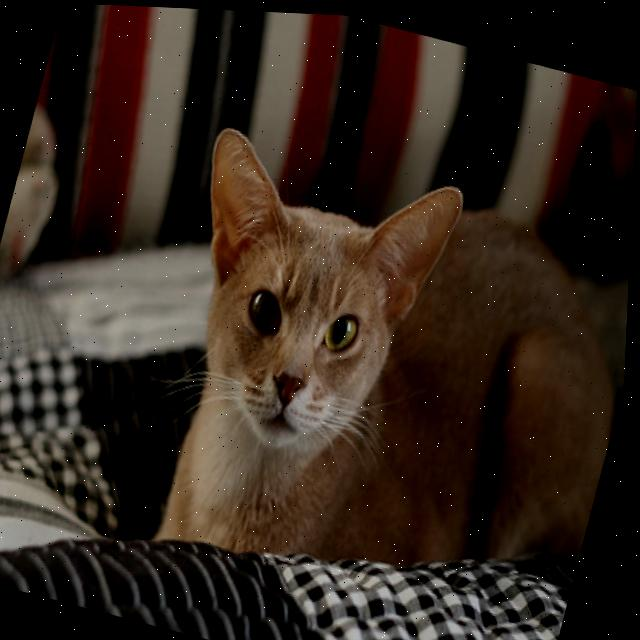Abyssinian: (110, 108, 636, 640)
